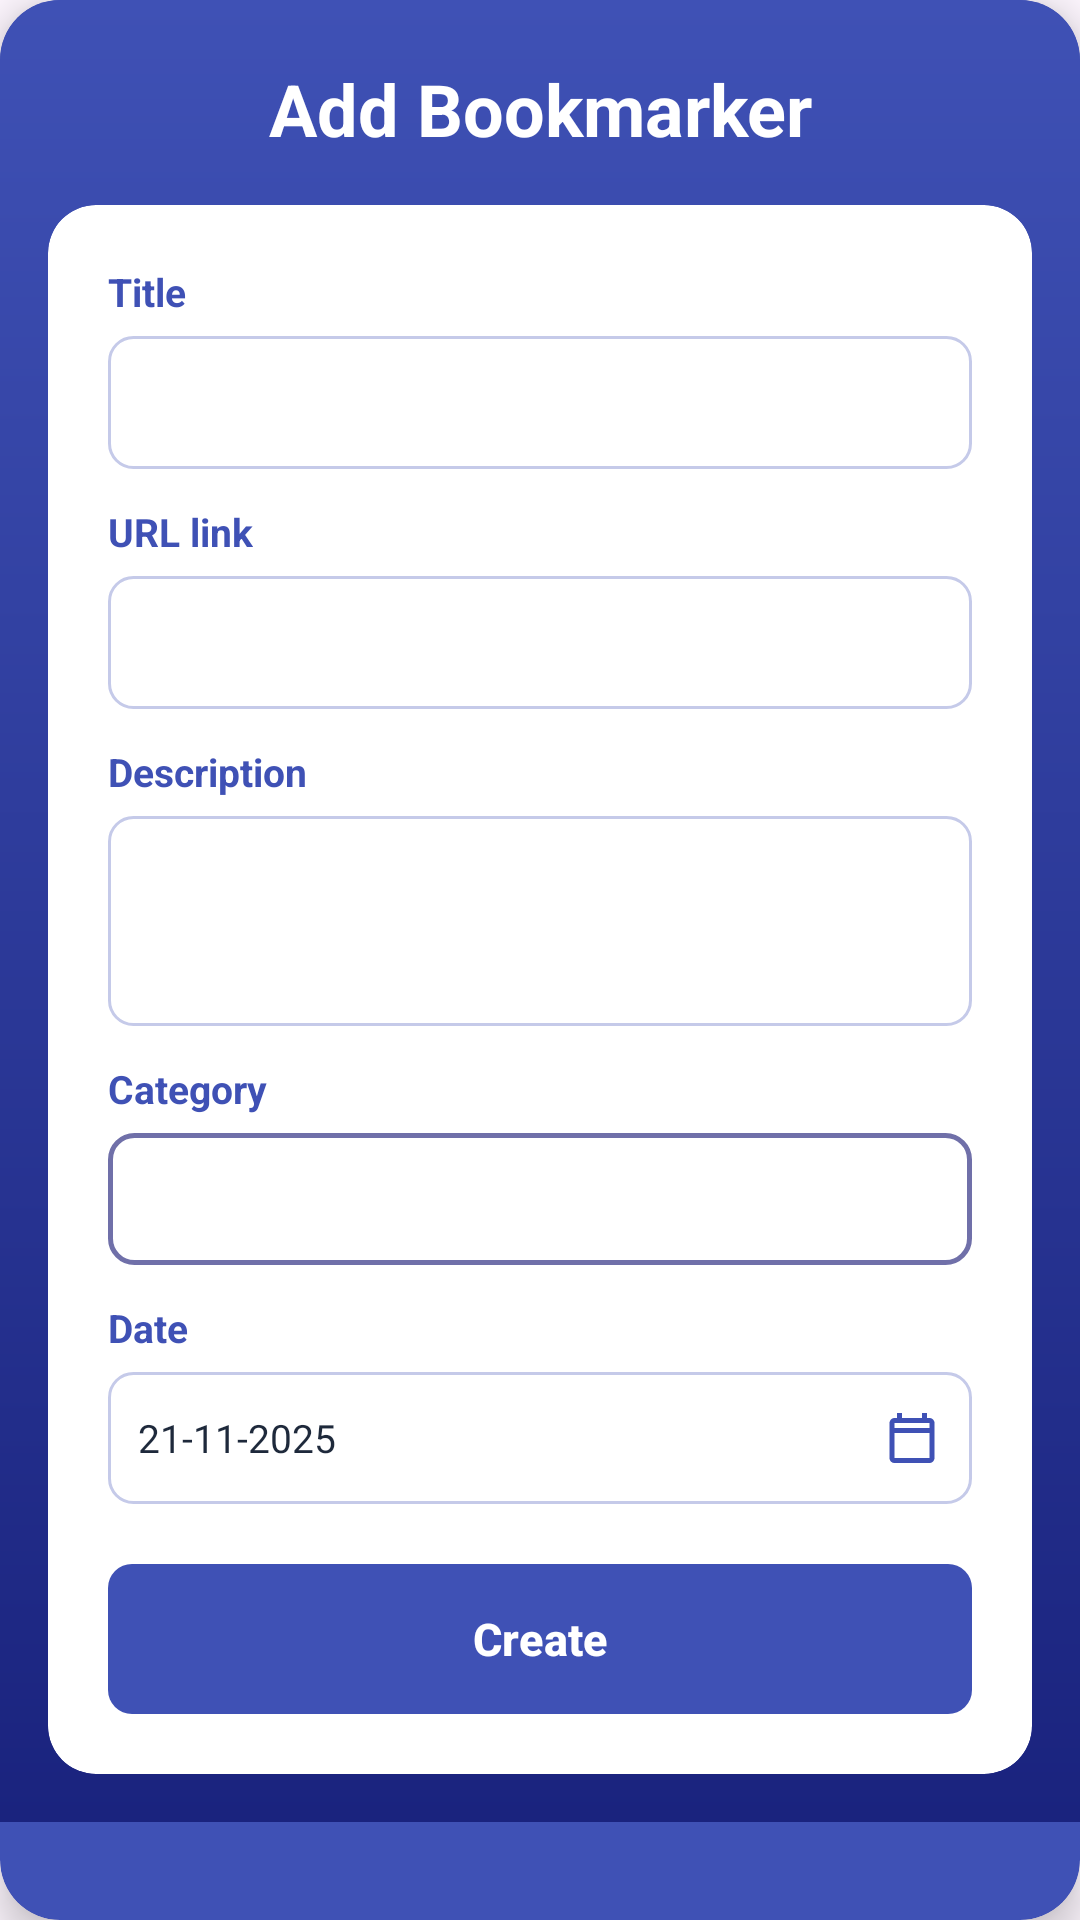

Where to tap for icons on this 1080x1920 app screen, as (x,y):
Select Date: (912,1438)
